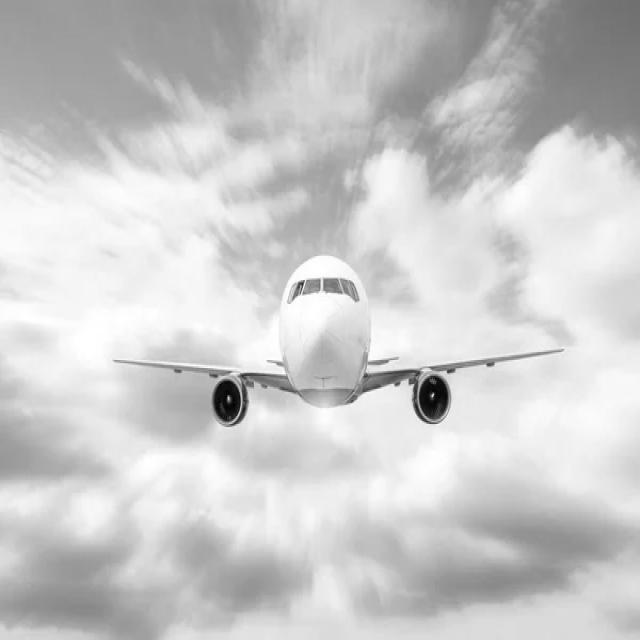Aircraft: (108, 243, 568, 440)
